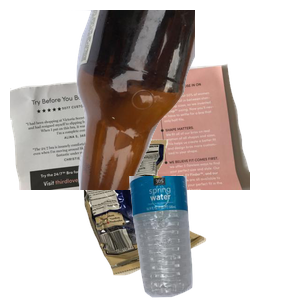glass: (60, 10, 300, 190)
paper: (10, 61, 250, 241)
plastic: (127, 176, 300, 300)
trash: (81, 137, 280, 300)
